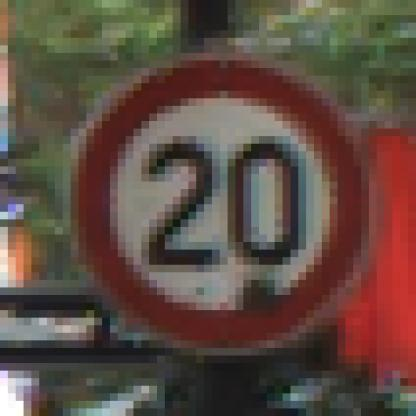Speed Limit 20: (83, 65, 362, 342)
